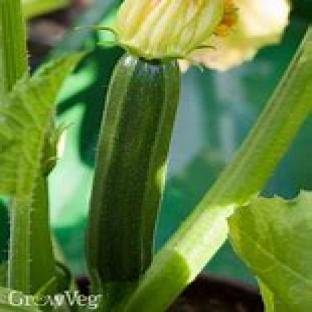Zucchini: (87, 54, 179, 288)
